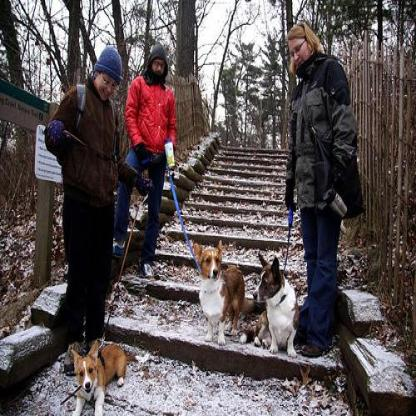Cardigan: (58, 322, 142, 414), (238, 248, 298, 360), (193, 238, 245, 346)
